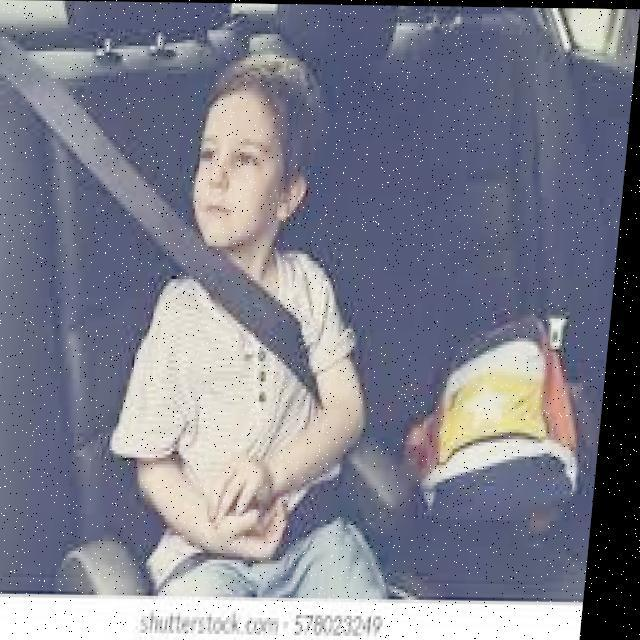seatbelt: (117, 223, 406, 578)
